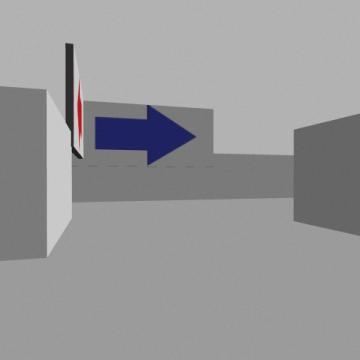blue_right: (96, 105, 196, 165)
